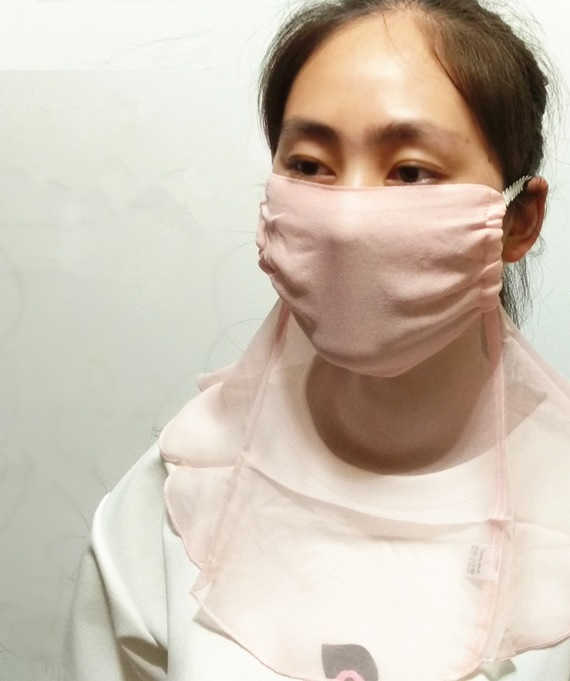face_mask: (268, 15, 495, 367)
